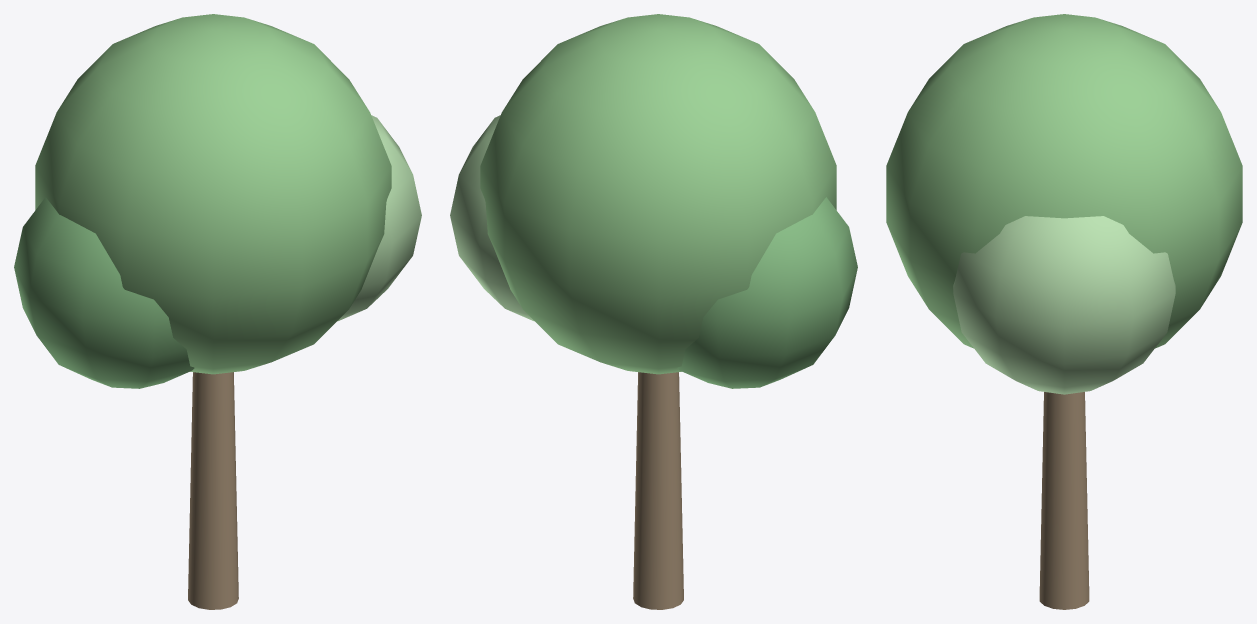
The model's file is TreeDeciduous.glb.
The picture shows the model from 3 angles, left to right: view 1: azimuth 30°, elevation 25°; view 2: azimuth 150°, elevation 25°; view 3: azimuth 270°, elevation 25°; orthographic projection.
Visible parts, largest first — view 1: model; view 2: model; view 3: model.
Part boxes in pixels (x1,y1,x2,y2): model: (14, 14, 421, 609); model: (450, 14, 857, 609); model: (886, 14, 1242, 609).
Bounding box in the file's own units: 4.1 × 5.9 × 3.35.
